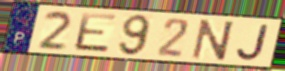2: (154, 17, 190, 59), (38, 10, 74, 50)
9: (117, 13, 154, 57)
E: (72, 11, 119, 54)
J: (235, 23, 272, 62)
N: (190, 18, 237, 62)
